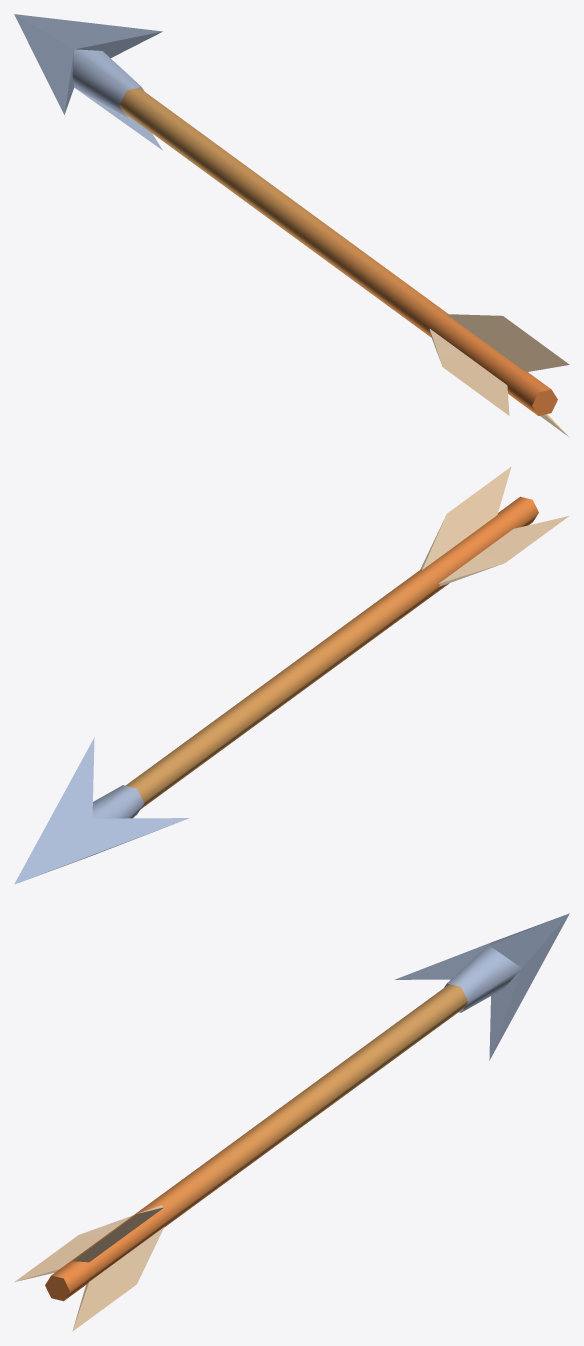
File: BulletArrow_Normal.fbx
3 views of the same model, one above another, from view 1: azimuth 30°, elevation 25°; view 2: azimuth 150°, elevation 25°; view 3: azimuth 330°, elevation 25° (orthographic). The views are drawn at different scales.
Visible parts, largest first — view 1: Arrow; view 2: Arrow; view 3: Arrow.
Boxes of the visible parts, x1,y1,x2,y2 form: Arrow: (14,14,569,437); Arrow: (14,466,568,884); Arrow: (14,913,569,1331).
Bounding box in the file's own units: 0.1078 × 0.1244 × 1.01.
